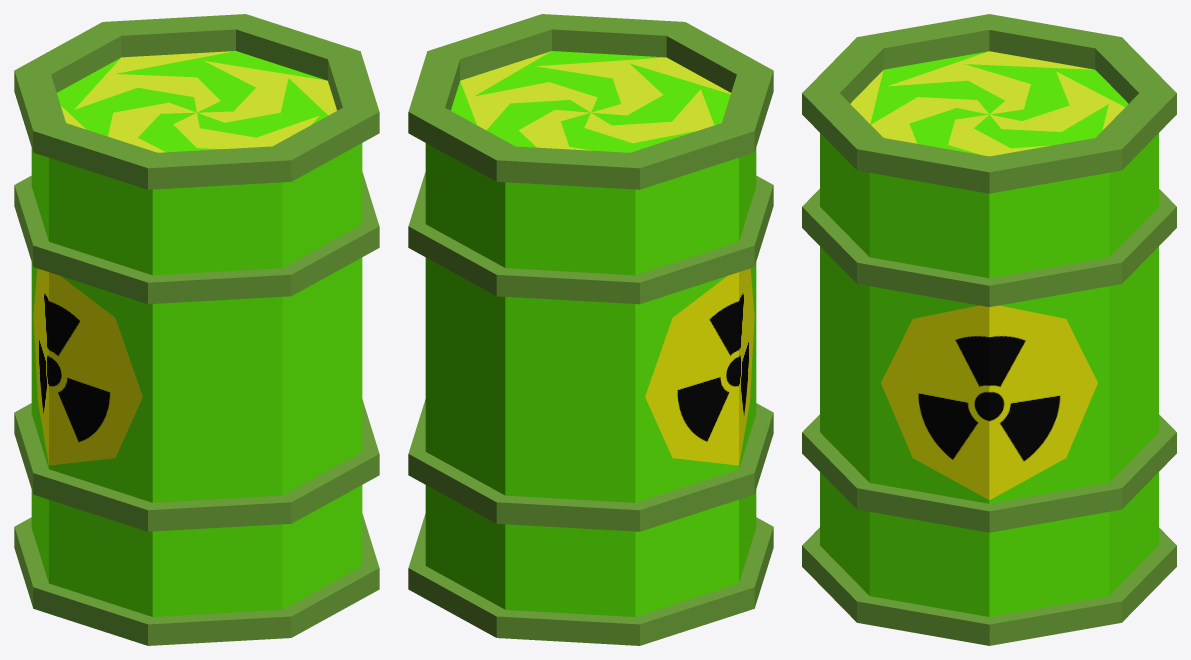
File: barrel_toxic.fbx
3 views of the same model, side by side, from view 1: azimuth 30°, elevation 25°; view 2: azimuth 150°, elevation 25°; view 3: azimuth 270°, elevation 25° (orthographic).
Visible parts, largest first — view 1: barrel_toxic; view 2: barrel_toxic; view 3: barrel_toxic.
Boxes of the visible parts, left/top/right/bottom form: barrel_toxic: left=14, top=14, right=379, bottom=645; barrel_toxic: left=408, top=14, right=773, bottom=645; barrel_toxic: left=802, top=14, right=1176, bottom=645.
Bounding box in the file's own units: 62.95 × 87.79 × 62.95.
